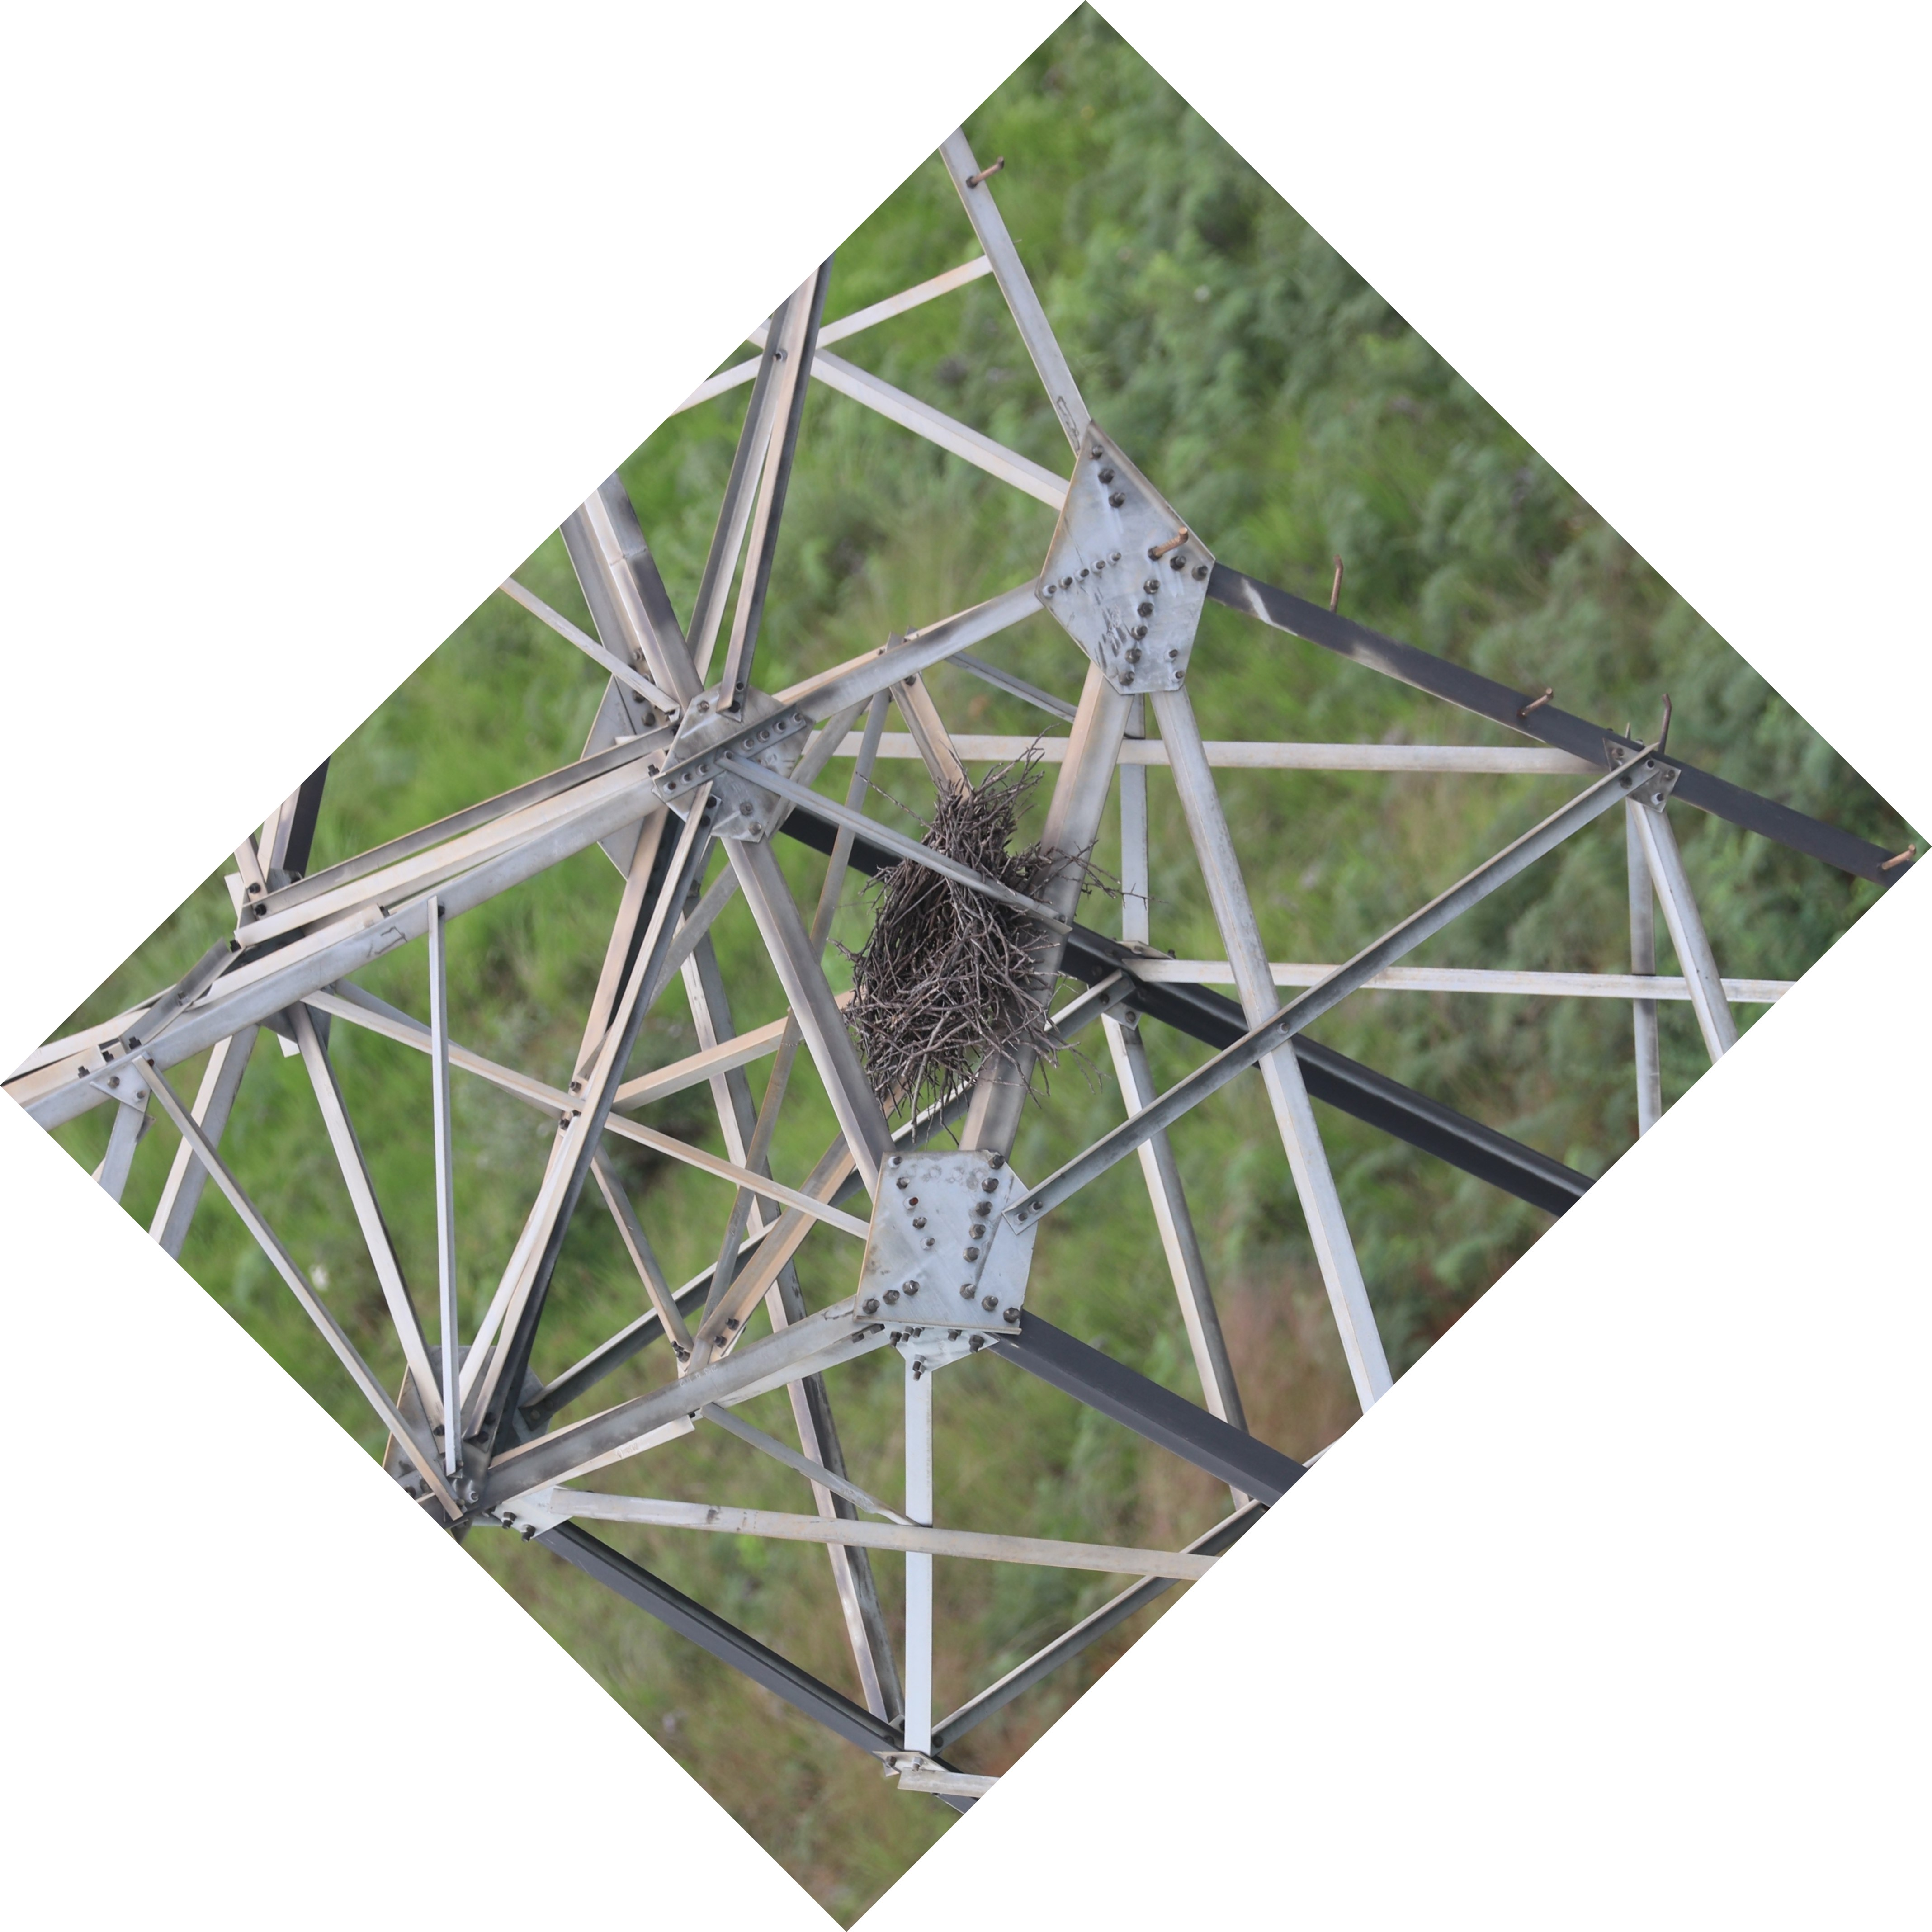niaowo: (801, 764, 1111, 1100)
